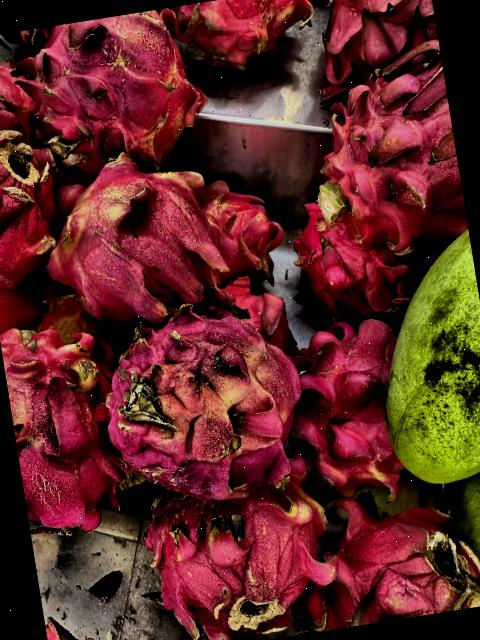buah-naga-belum-matang: (87, 298, 309, 502), (121, 462, 346, 640), (0, 300, 133, 546), (39, 149, 226, 323), (21, 7, 199, 170)
buah-naga-matang: (310, 50, 467, 243), (304, 480, 480, 630), (282, 308, 410, 494), (285, 194, 415, 316), (315, 0, 442, 78), (154, 0, 304, 66), (198, 178, 290, 280), (0, 125, 56, 282), (0, 45, 27, 141)
